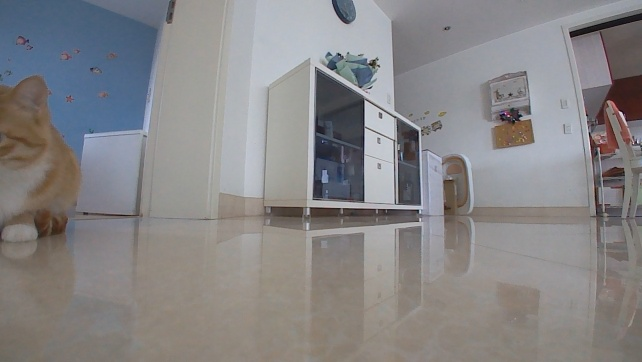cat: (0, 70, 85, 247)
